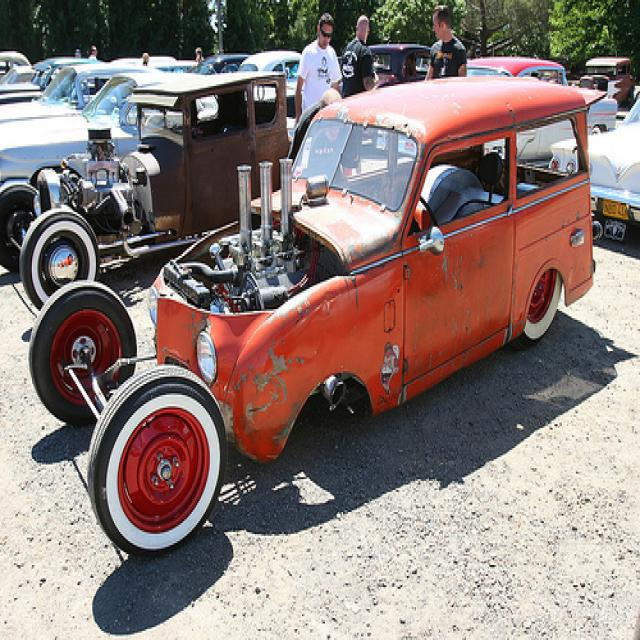Car: (32, 72, 592, 556), (0, 52, 305, 302)
